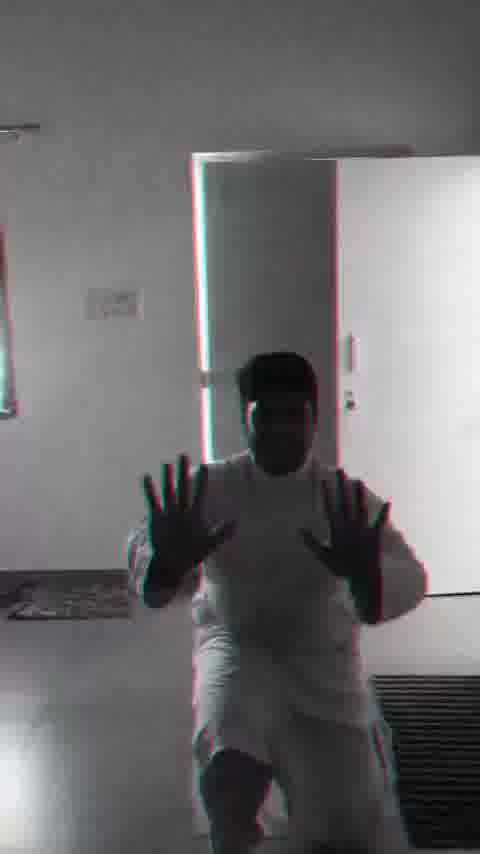duck: (114, 352, 441, 854)
